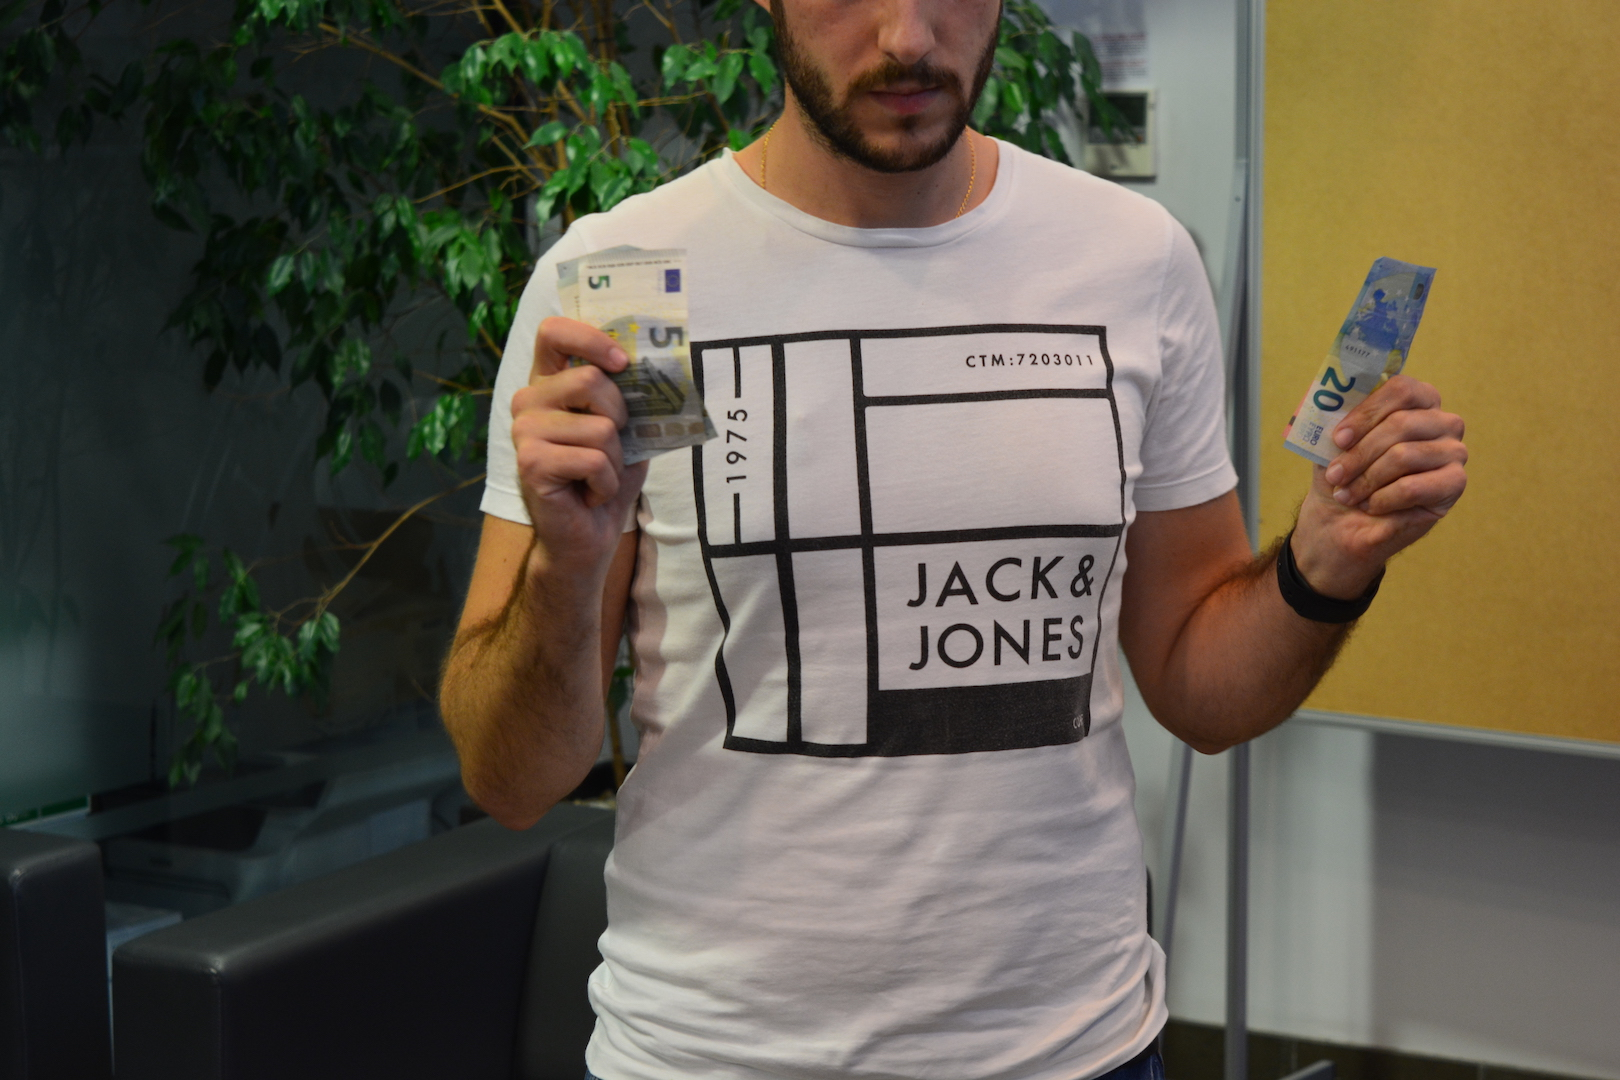billete: (556, 242, 721, 469), (1280, 257, 1437, 466)
